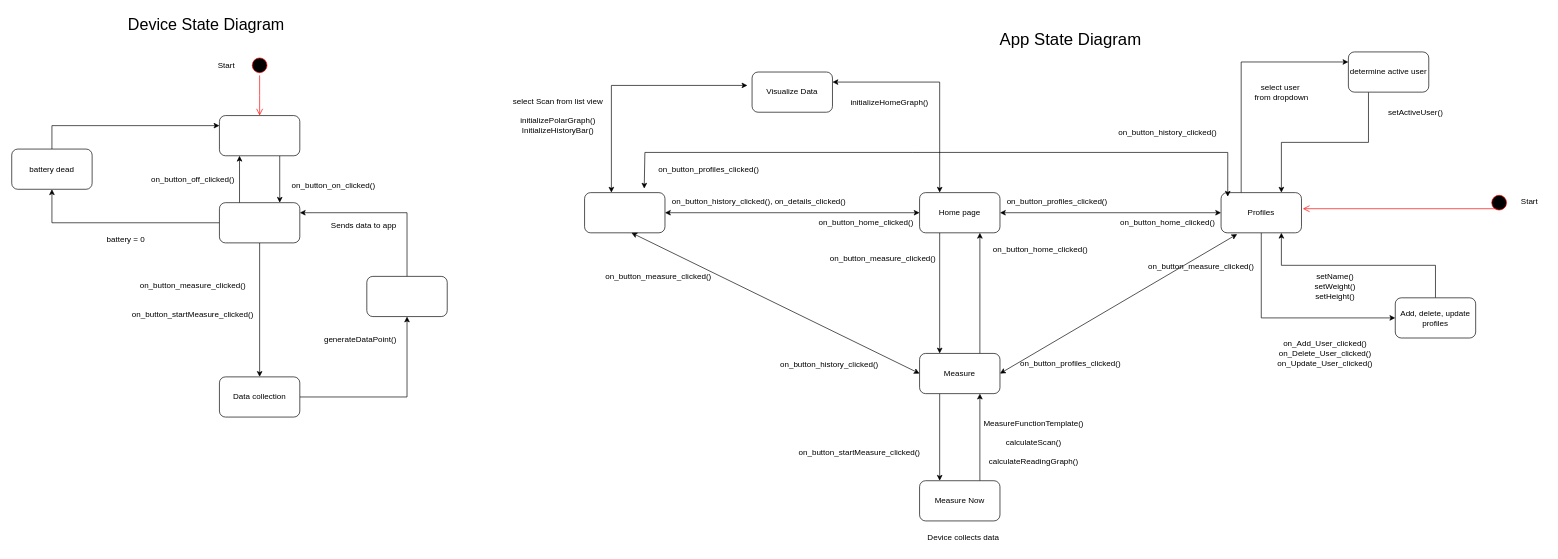
This 1558x559 diagram has some shape labels left out. The centre of each missing label's shape, as x and y in pixels:
"Data processing" belongs at pixel 406 296.
"History" belongs at pixel 624 212.
"off" belongs at pixel 259 135.
"on / idle" belongs at pixel 259 222.
